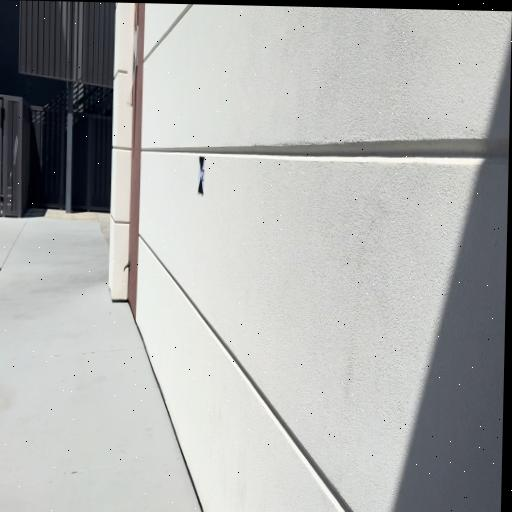target7: (198, 156, 205, 194)
